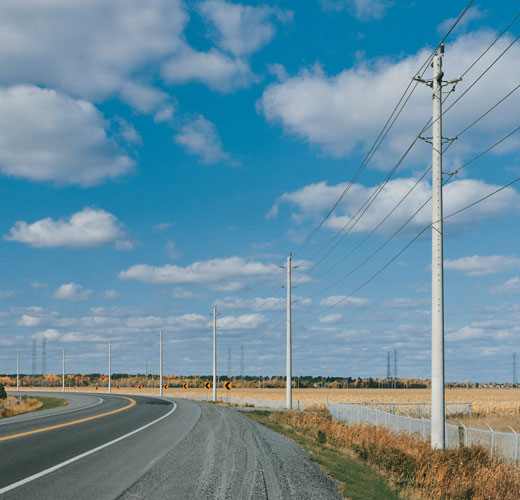utility_pole: (407, 35, 467, 164), (272, 247, 305, 311)
